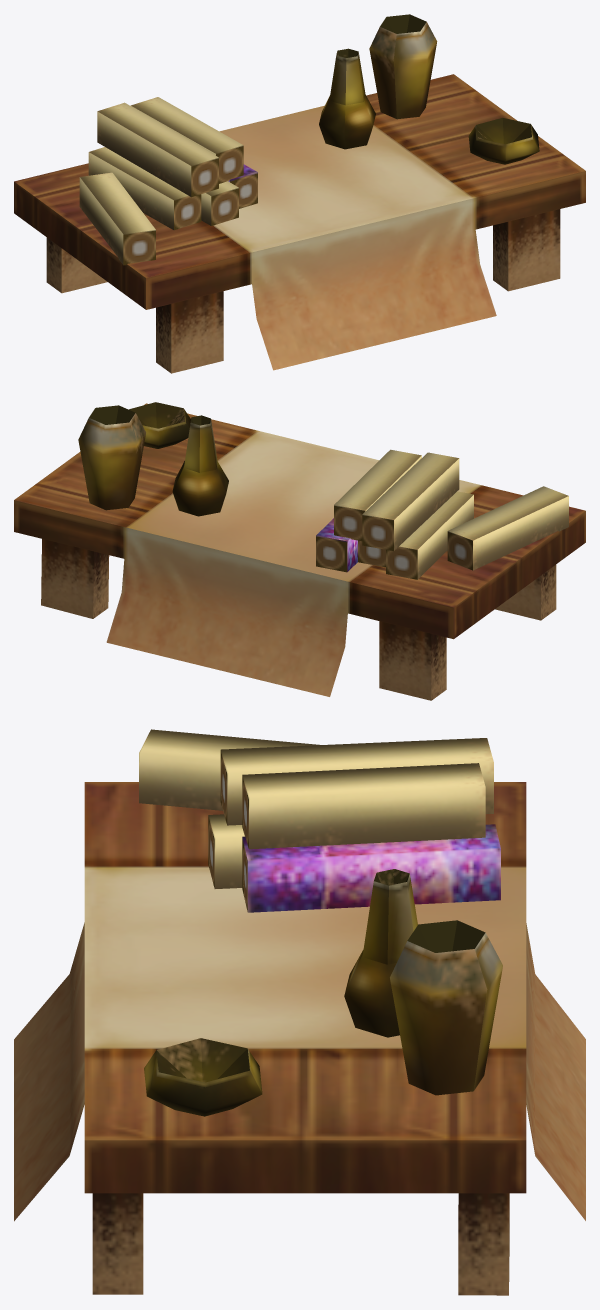
Rendered from tanwei01_A.FBX.
3 views of the same model, one above another, from view 1: azimuth 30°, elevation 25°; view 2: azimuth 150°, elevation 25°; view 3: azimuth 270°, elevation 25° (orthographic). The views are drawn at different scales.
Parts seen in each view (by area): view 1: 对象052; view 2: 对象052; view 3: 对象052.
Boxes of the visible parts, <box> form: 对象052: <box>14,14,585,373</box>; 对象052: <box>14,402,585,700</box>; 对象052: <box>14,729,585,1295</box>.
Size of the model in its own units: 73.63 by 30.28 by 49.34.
